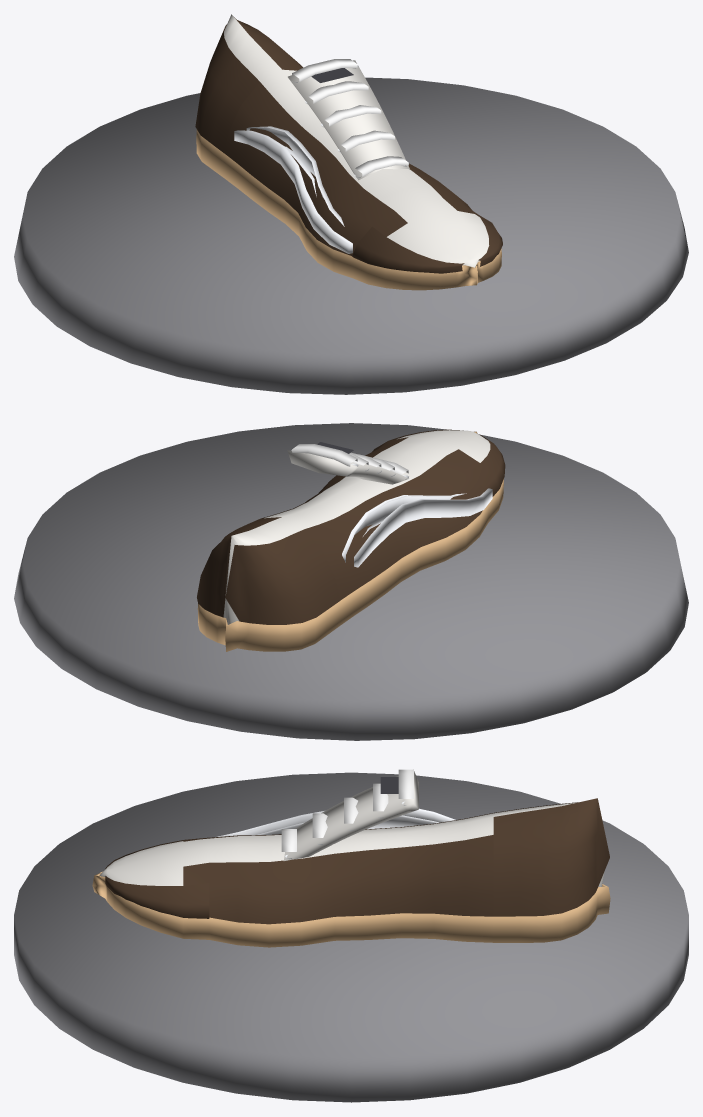
File: test_sculpted_sneaker.glb
3 views of the same model, one above another, from view 1: azimuth 30°, elevation 25°; view 2: azimuth 150°, elevation 25°; view 3: azimuth 270°, elevation 25° (orthographic). The views are drawn at different scales.
Visible parts, largest first — view 1: Sneaker_Pedestal, Sneaker_Design_Layers, Sneaker_Upper, Sneaker_Sole, Sneaker_Tongue, Sneaker_Laces; view 2: Sneaker_Pedestal, Sneaker_Design_Layers, Sneaker_Sole, Sneaker_Upper, Sneaker_Tongue, Sneaker_Laces; view 3: Sneaker_Pedestal, Sneaker_Design_Layers, Sneaker_Sole, Sneaker_Upper, Sneaker_Tongue, Sneaker_Laces.
Part boxes in pixels (left/top/right/bottom): Sneaker_Pedestal: left=14, top=77, right=688, bottom=394; Sneaker_Design_Layers: left=195, top=17, right=502, bottom=273; Sneaker_Upper: left=224, top=14, right=489, bottom=267; Sneaker_Sole: left=196, top=129, right=501, bottom=290; Sneaker_Tongue: left=288, top=60, right=409, bottom=180; Sneaker_Laces: left=292, top=59, right=408, bottom=177; Sneaker_Pedestal: left=14, top=423, right=688, bottom=740; Sneaker_Design_Layers: left=197, top=429, right=505, bottom=624; Sneaker_Sole: left=197, top=431, right=503, bottom=651; Sneaker_Upper: left=223, top=430, right=490, bottom=624; Sneaker_Tongue: left=287, top=442, right=409, bottom=484; Sneaker_Laces: left=291, top=444, right=408, bottom=479; Sneaker_Pedestal: left=14, top=772, right=688, bottom=1102; Sneaker_Design_Layers: left=105, top=798, right=609, bottom=924; Sneaker_Sole: left=92, top=871, right=610, bottom=947; Sneaker_Upper: left=99, top=802, right=604, bottom=886; Sneaker_Tongue: left=283, top=771, right=418, bottom=860; Sneaker_Laces: left=281, top=769, right=413, bottom=859.
Size of the model in its own units: 0.383 by 0.1056 by 0.37.
